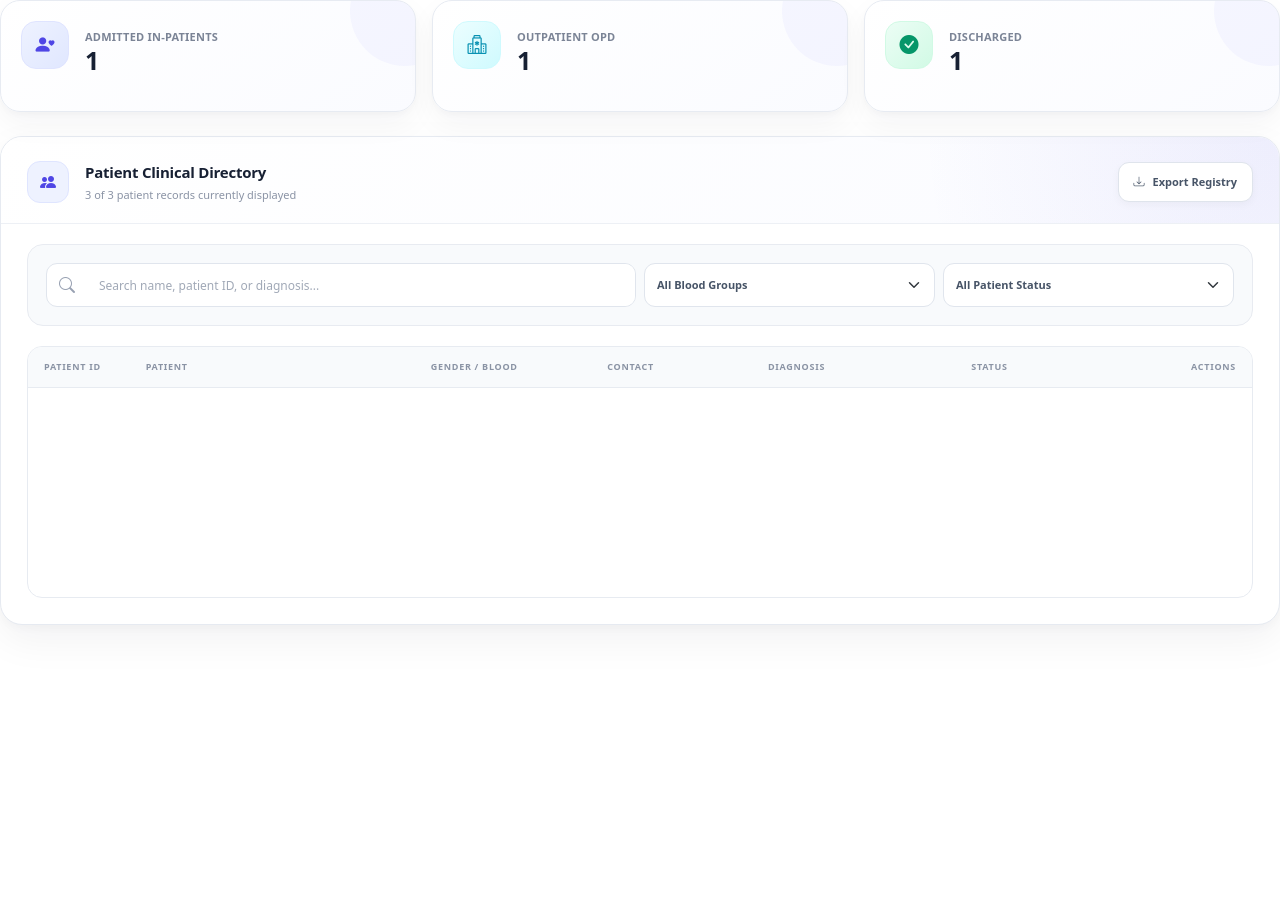
Test case: PatientList Integration Suite › displays empty state message when search yields no match
Type "Nonexistent Patient XYZ" into the field with placeholder "Search name, patient ID, or diagnosis...". click: (361, 285)
box: [87,264,635,306]
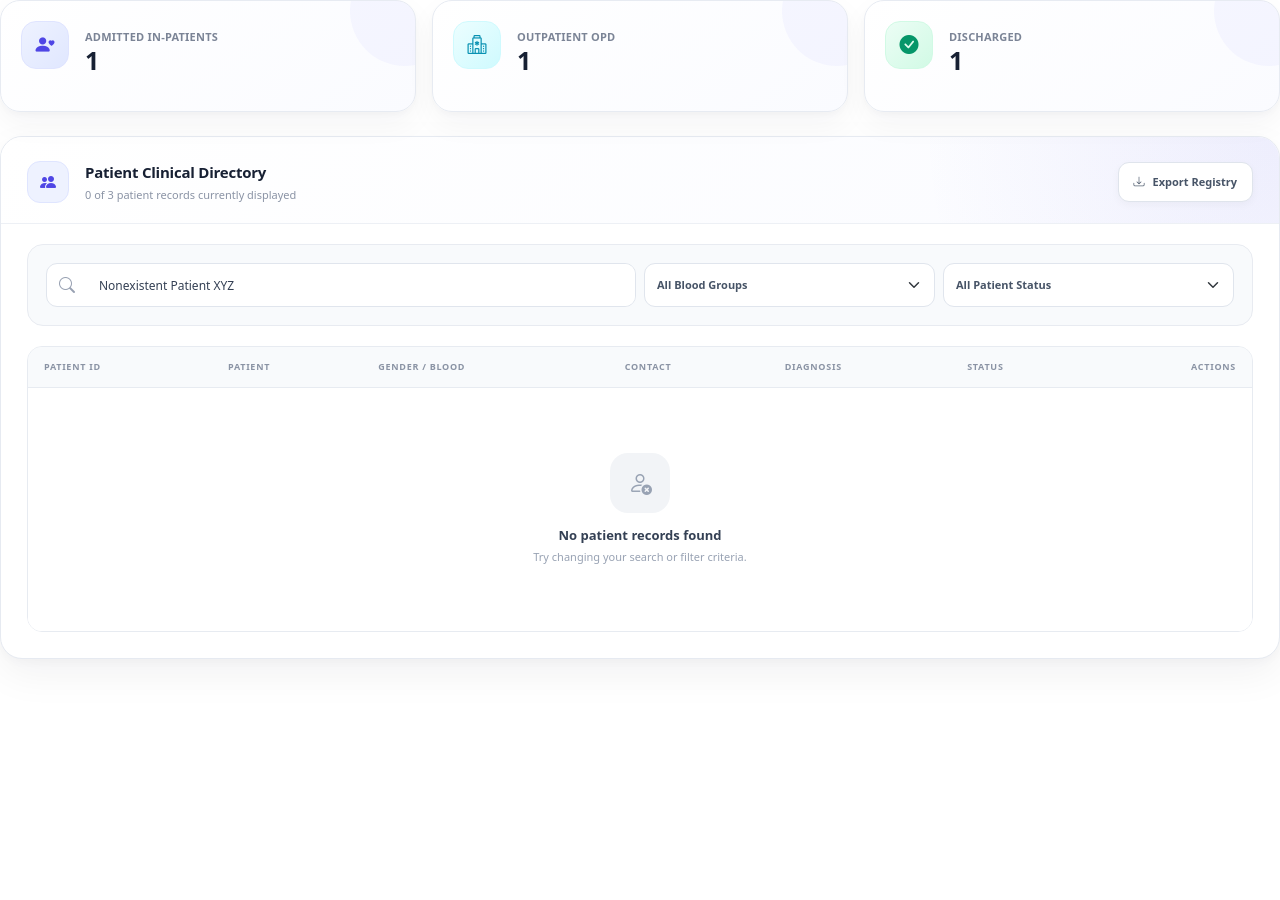
Result: the text "No patient records found" is shown at [558,526,722,544]
